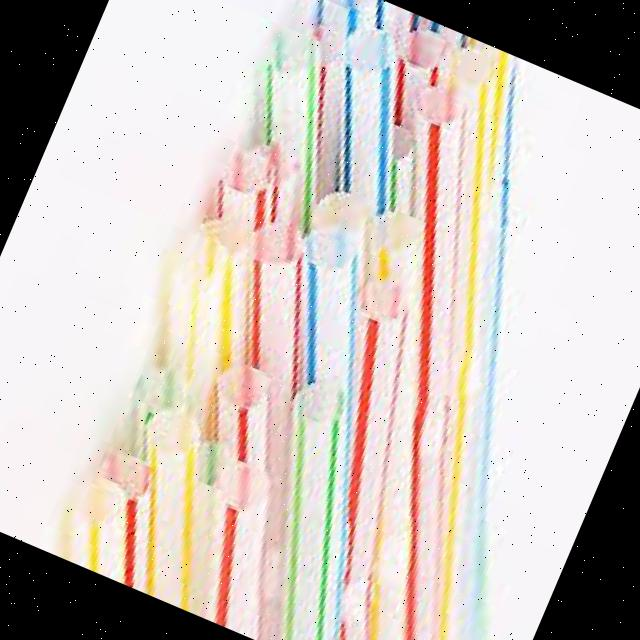plastic: (183, 341, 494, 640)
